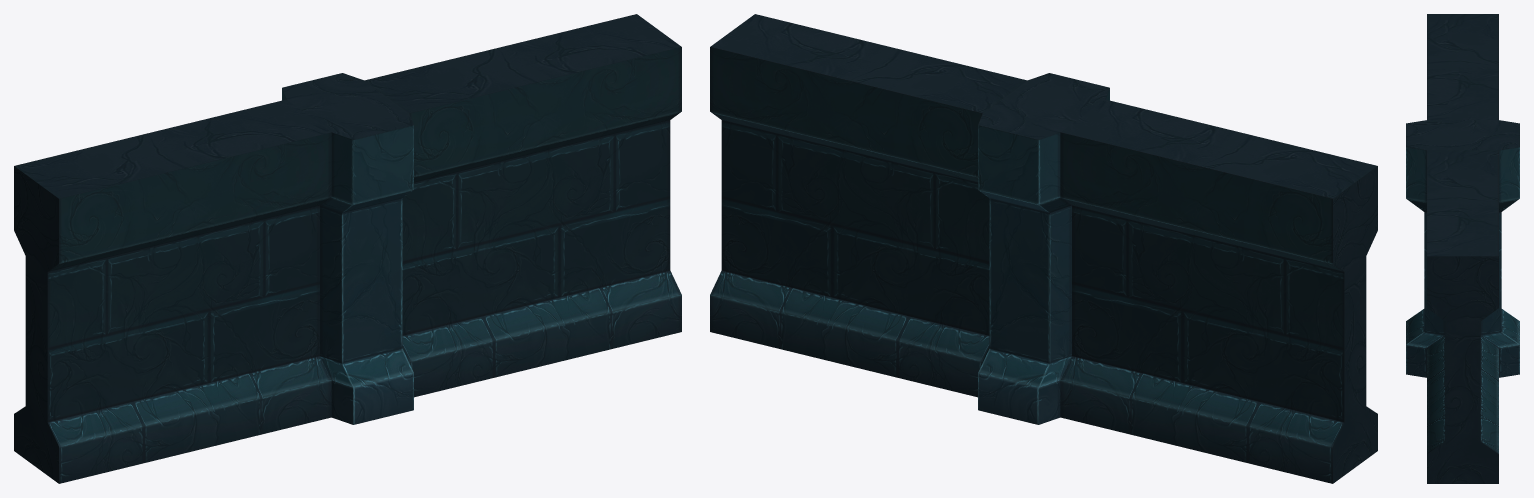
Rendered from SM_WallShort.FBX.
3 views of the same model, side by side, from view 1: azimuth 30°, elevation 25°; view 2: azimuth 150°, elevation 25°; view 3: azimuth 270°, elevation 25° (orthographic). The views are drawn at different scales.
Parts seen in each view (by area): view 1: SM_WallShort; view 2: SM_WallShort; view 3: SM_WallShort.
Part boxes in pixels (x1,y1,x2,y2): SM_WallShort: (14,14,681,483); SM_WallShort: (710,14,1377,483); SM_WallShort: (1406,14,1519,483).
Size of the model in its own units: 800 by 350 by 159.
